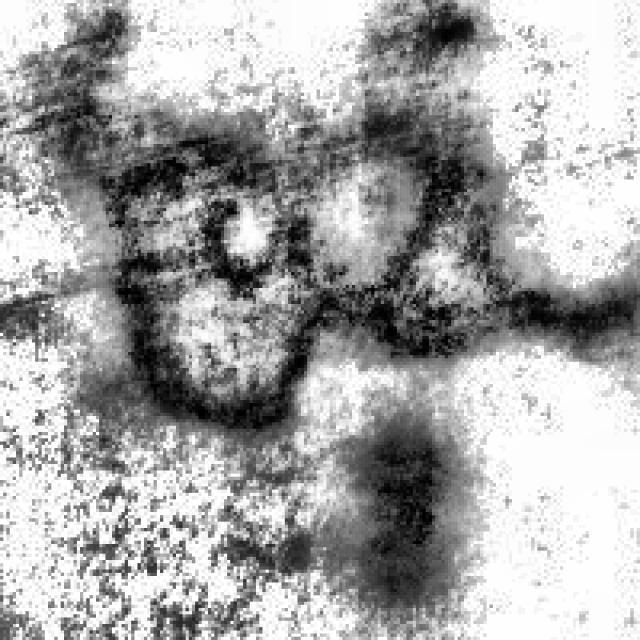Scratches: (333, 74, 608, 362), (84, 106, 310, 438), (330, 412, 458, 602)
